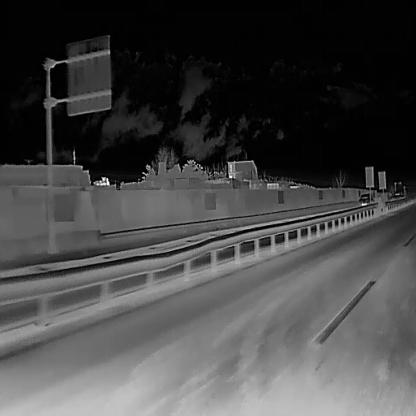car: (358, 192, 373, 204), (396, 192, 404, 200), (389, 194, 396, 201)
